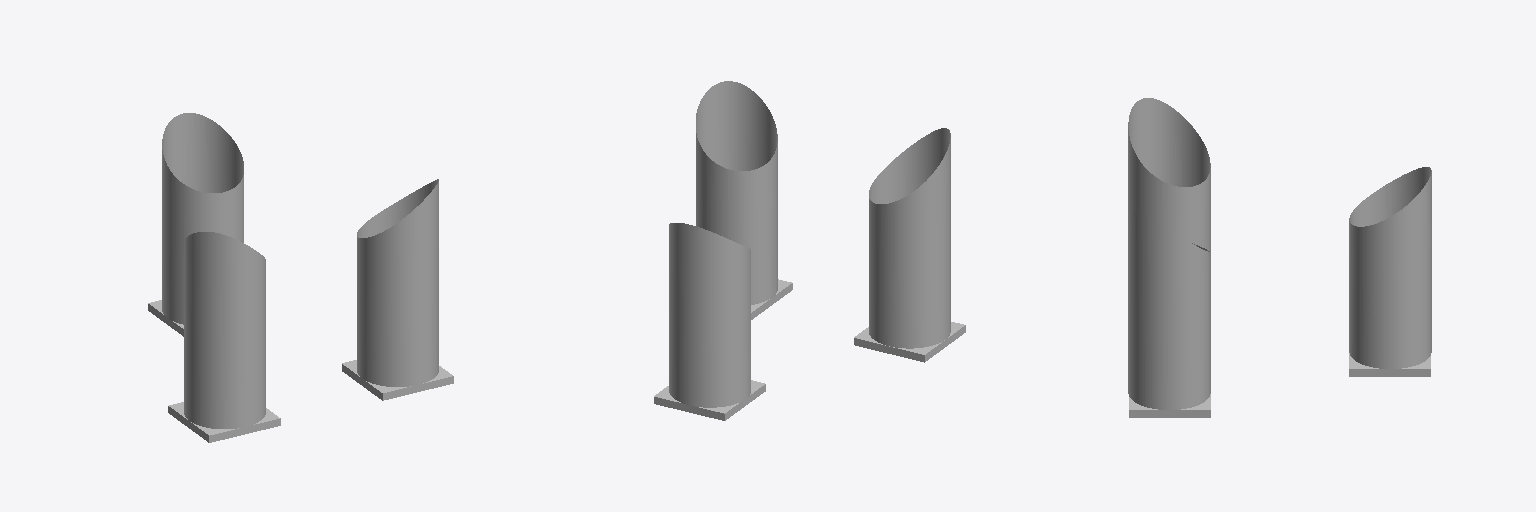
The model's file is filter_unpaint.obj.
3 views of the same model, side by side, from view 1: azimuth 30°, elevation 25°; view 2: azimuth 150°, elevation 25°; view 3: azimuth 270°, elevation 25° (orthographic).
Parts seen in each view (by area): view 1: obj1; view 2: obj1; view 3: obj1.
Part boxes in pixels (x1,y1,x2,y2): obj1: (148, 113, 453, 442); obj1: (654, 81, 965, 420); obj1: (1128, 98, 1431, 417).
Size of the model in its own units: 3.43 by 2.74 by 3.69.